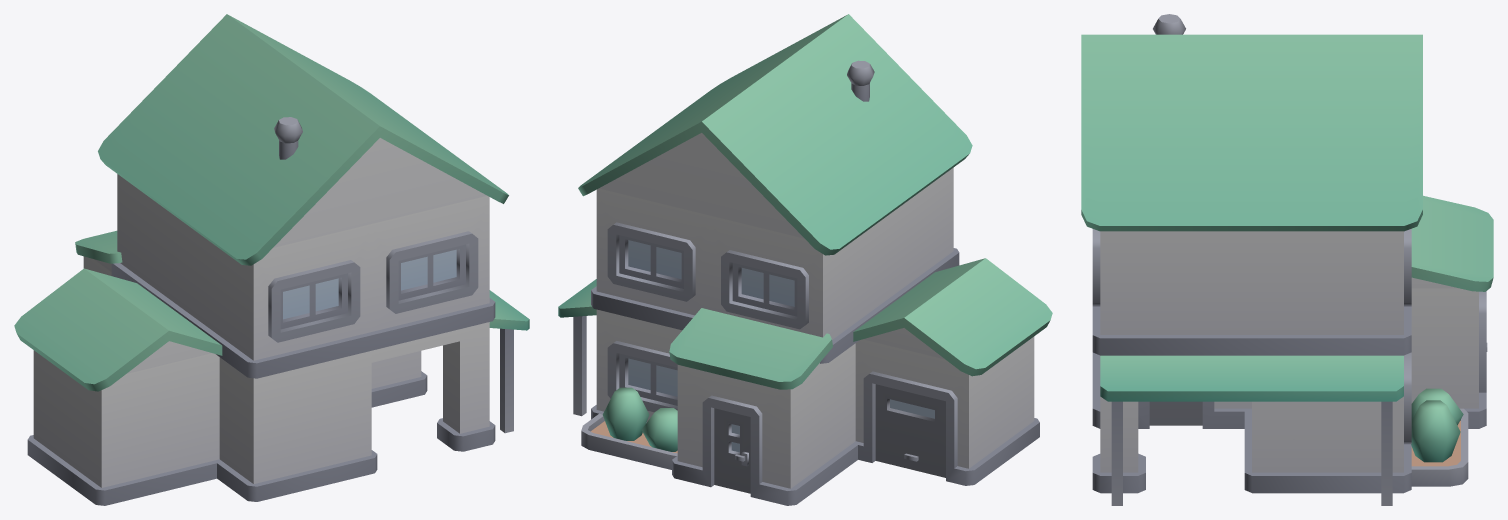
Rendered from building-type-s.glb.
3 renders of one model, left to right at view 1: azimuth 30°, elevation 25°; view 2: azimuth 150°, elevation 25°; view 3: azimuth 270°, elevation 25°, orthographic. The views are drawn at different scales.
Visible parts, largest first — view 1: building-type-s; view 2: building-type-s; view 3: building-type-s.
Boxes of the visible parts, bbox=[...] form: building-type-s: bbox=[14, 14, 529, 505]; building-type-s: bbox=[558, 14, 1052, 505]; building-type-s: bbox=[1081, 14, 1493, 505].
Bounding box in the file's own units: 1.41 × 1.14 × 1.09.
